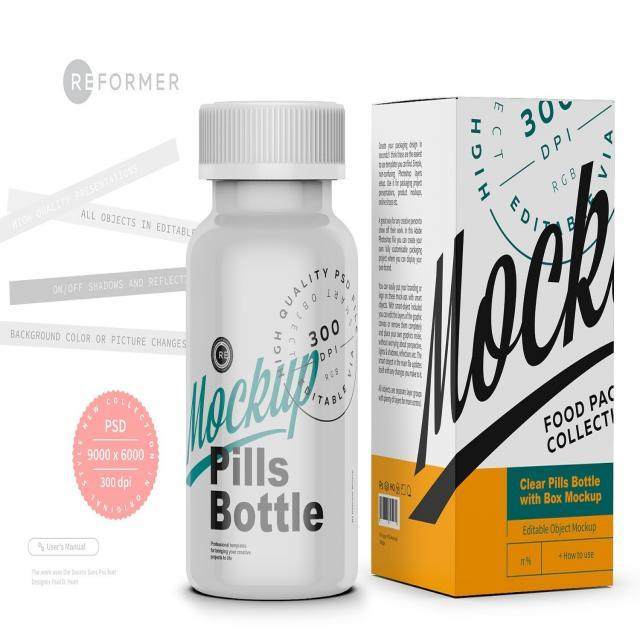jar: (184, 99, 359, 600)
